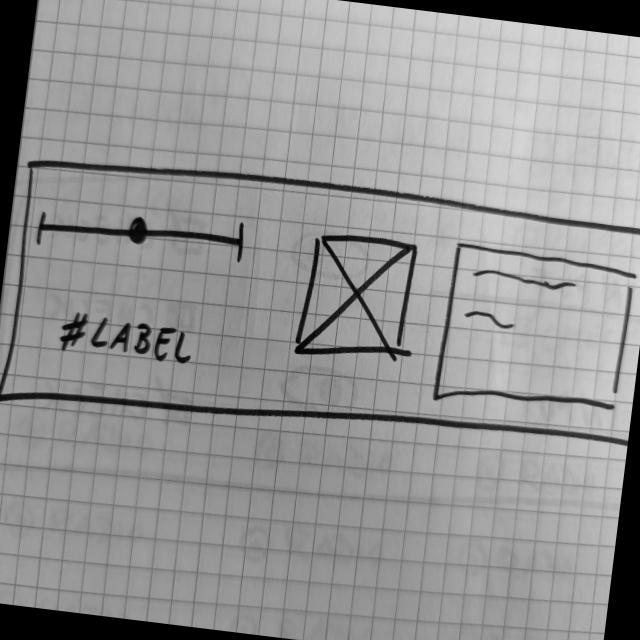container: (1, 144, 640, 479)
image: (291, 226, 422, 372)
label: (56, 307, 201, 372)
slider: (33, 194, 251, 274)
textarea: (430, 237, 640, 427)
